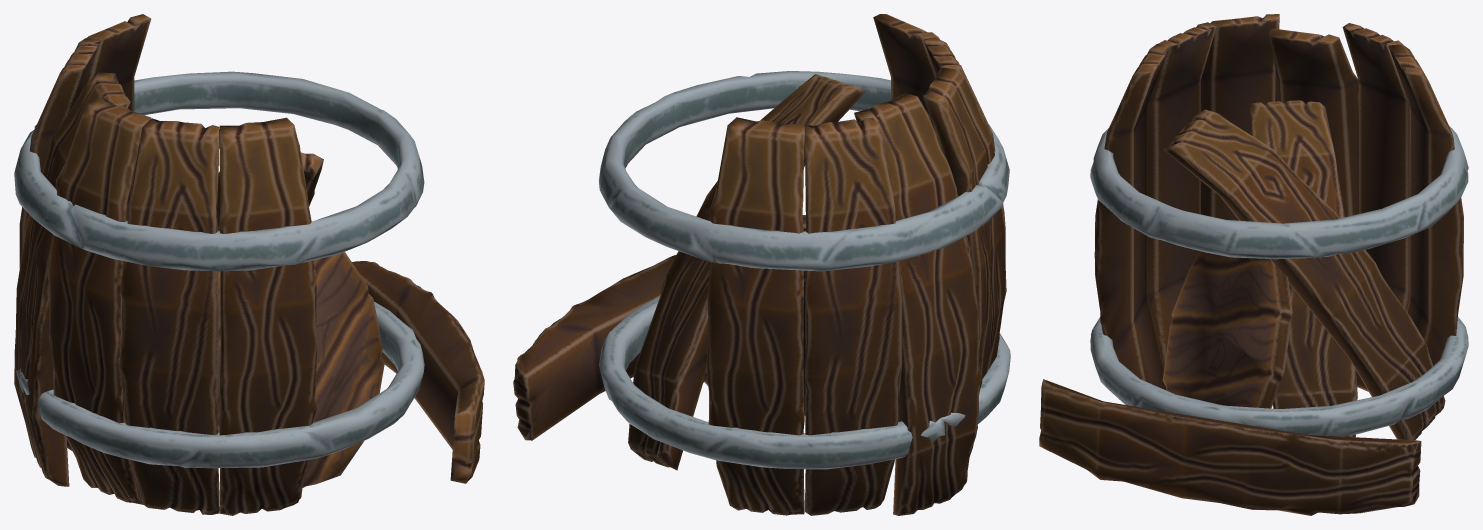
The model's file is BarrelBroken.fbx.
The picture shows the model from 3 angles, left to right: view 1: azimuth 30°, elevation 25°; view 2: azimuth 150°, elevation 25°; view 3: azimuth 270°, elevation 25°; orthographic projection. The views are drawn at different scales.
Parts seen in each view (by area): view 1: BarrelBroken_01; view 2: BarrelBroken_01; view 3: BarrelBroken_01.
Boxes of the visible parts, box(x1,y1,x2,y2) form: BarrelBroken_01: box(14, 14, 484, 515); BarrelBroken_01: box(513, 14, 1010, 515); BarrelBroken_01: box(1039, 14, 1468, 515).
Bounding box in the file's own units: 162 × 150 × 161.
1 material, 1 textured.
